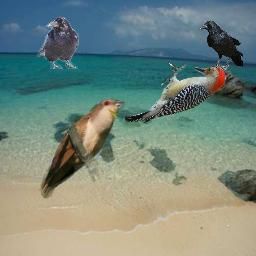Crow: (199, 20, 243, 71), (37, 16, 79, 69)
Cuckoo: (37, 98, 125, 201)
Woodpecker: (125, 61, 227, 125)
